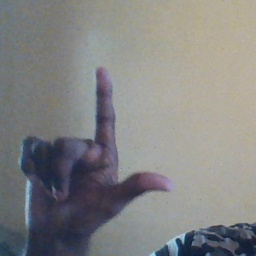L: (19, 67, 173, 238)
